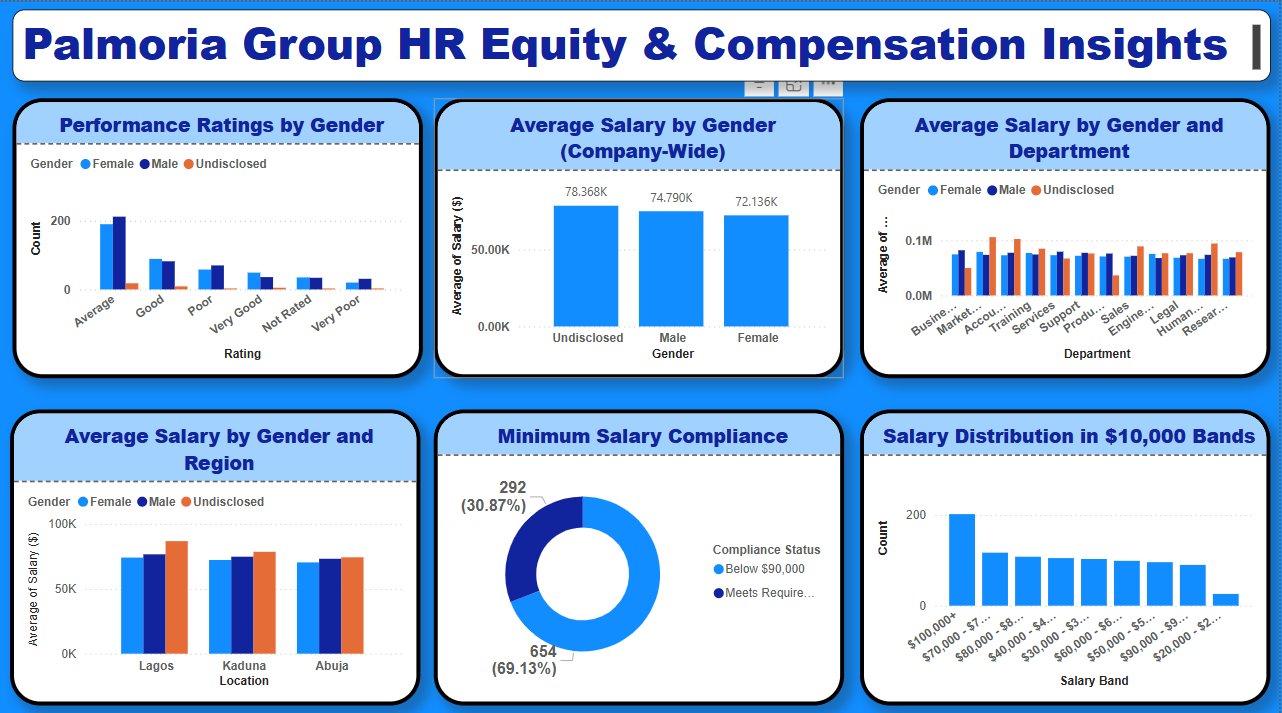

Layout of this report page (visuals, bound fields, positions):
{"tool":"powerbi","page":{"name":"Page 3","canvas":[1280,720],"ordinal":2},"visuals":[{"type":"clusteredColumnChart","title":"Performance Ratings by Gender","fields":{"Series":["Palmoria Group emp-data.Gender"],"Category":["Palmoria Group emp-data.Rating"],"Y":["Palmoria Group emp-data.Gender"]},"box":[12,96,410,280],"z":0},{"type":"clusteredColumnChart","title":"Average Salary by Gender (Company-Wide)","fields":{"Category":["Palmoria Group emp-data.Gender"],"Y":["Palmoria Group emp-data.Salary"]},"box":[434,96,410,280],"z":1},{"type":"clusteredColumnChart","title":"Average Salary by Gender and Department","fields":{"Series":["Palmoria Group emp-data.Gender"],"Category":["Palmoria Group emp-data.Department"],"Y":["Palmoria Group emp-data.Salary ($)"]},"box":[860,96,410,280],"z":2},{"type":"clusteredColumnChart","title":"Average Salary by Gender and Region","fields":{"Category":["Palmoria Group emp-data.Location"],"Series":["Palmoria Group emp-data.Gender"],"Y":["Palmoria Group emp-data.Salary ($)"]},"box":[10,408,410,296],"z":3},{"type":"donutChart","title":"Minimum Salary Compliance","fields":{"Category":["Palmoria Group emp-data.Compliance Status"],"Y":["Palmoria Group emp-data.Name"]},"box":[434,408,410,296],"z":4},{"type":"clusteredColumnChart","title":"Salary Distribution in $10,000 Bands","fields":{"Category":["Palmoria Group emp-data.Salary Band"],"Y":["Palmoria Group emp-data.Name"]},"box":[860,408,410,296],"z":5},{"type":"textbox","box":[12,8,1258,72],"z":6}]}

Visuals, with their boxes in screenshot pixels (x1, y1, x2, y2), scaled from the page's 1280x720 canvas onto the 1282x713 screenshot:
"Performance Ratings by Gender" clusteredColumnChart: x1=12 y1=95 x2=423 y2=372
"Average Salary by Gender (Company-Wide)" clusteredColumnChart: x1=435 y1=95 x2=845 y2=372
"Average Salary by Gender and Department" clusteredColumnChart: x1=861 y1=95 x2=1272 y2=372
"Average Salary by Gender and Region" clusteredColumnChart: x1=10 y1=404 x2=421 y2=697
"Minimum Salary Compliance" donutChart: x1=435 y1=404 x2=845 y2=697
"Salary Distribution in $10,000 Bands" clusteredColumnChart: x1=861 y1=404 x2=1272 y2=697
textbox: x1=12 y1=8 x2=1272 y2=79
